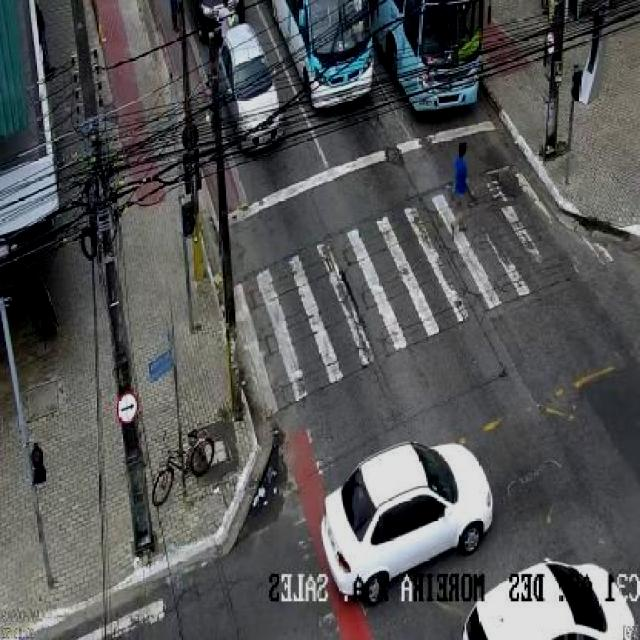Bus: (368, 0, 484, 116), (271, 0, 375, 111)
Car: (319, 442, 494, 604), (459, 556, 638, 640), (216, 24, 285, 154), (188, 0, 246, 41)
Cycle: (150, 428, 216, 507)
